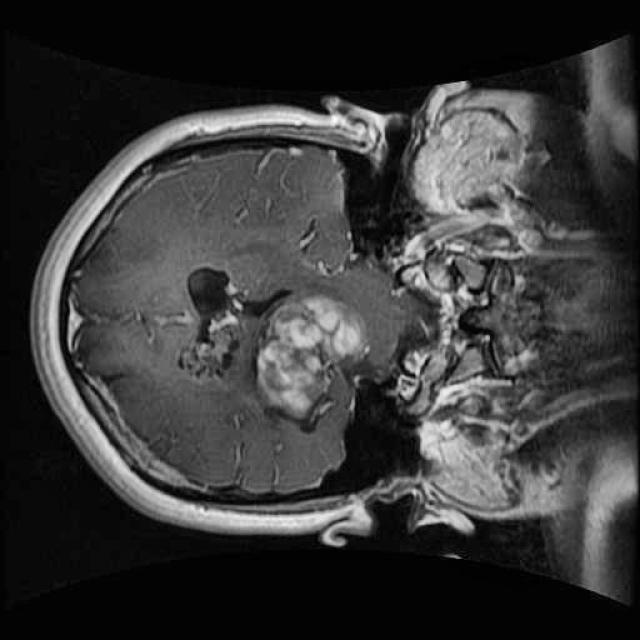Non-Tumor: (239, 275, 376, 439)
